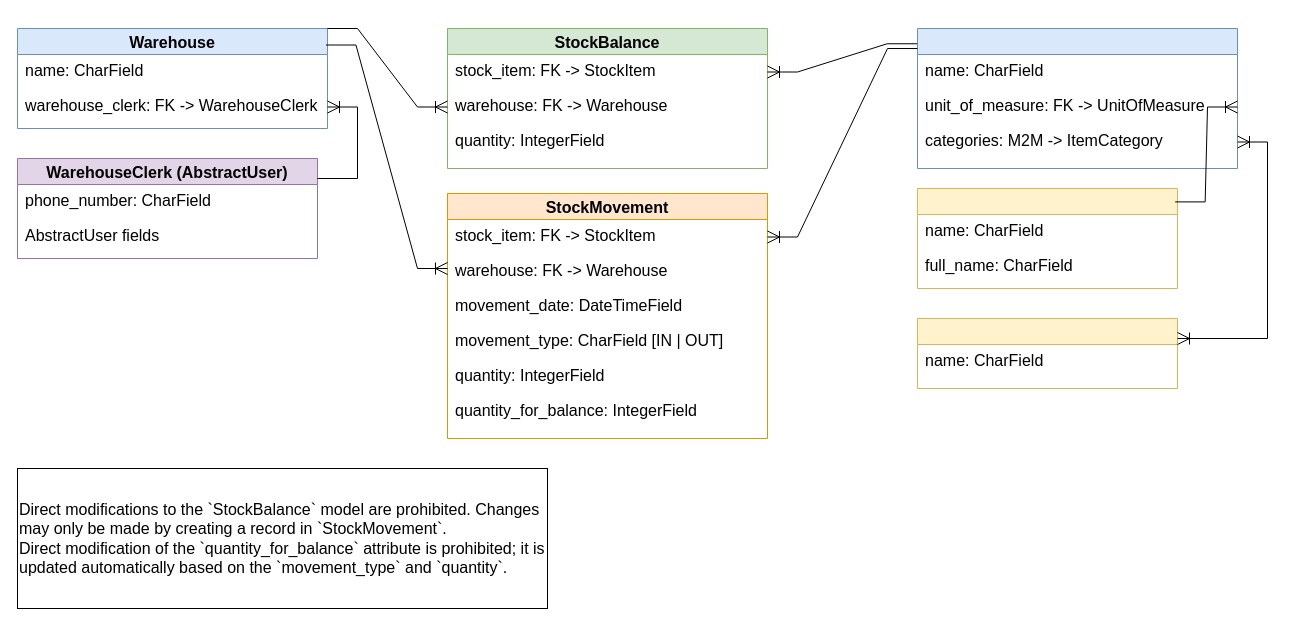
This 1298x626 diagram has some shape labels left out. Each missing label, with the box of its shape:
ItemCategory: (916, 318, 1178, 388)
StockItem: (916, 28, 1238, 168)
UnitOfMeasure: (916, 188, 1178, 288)
